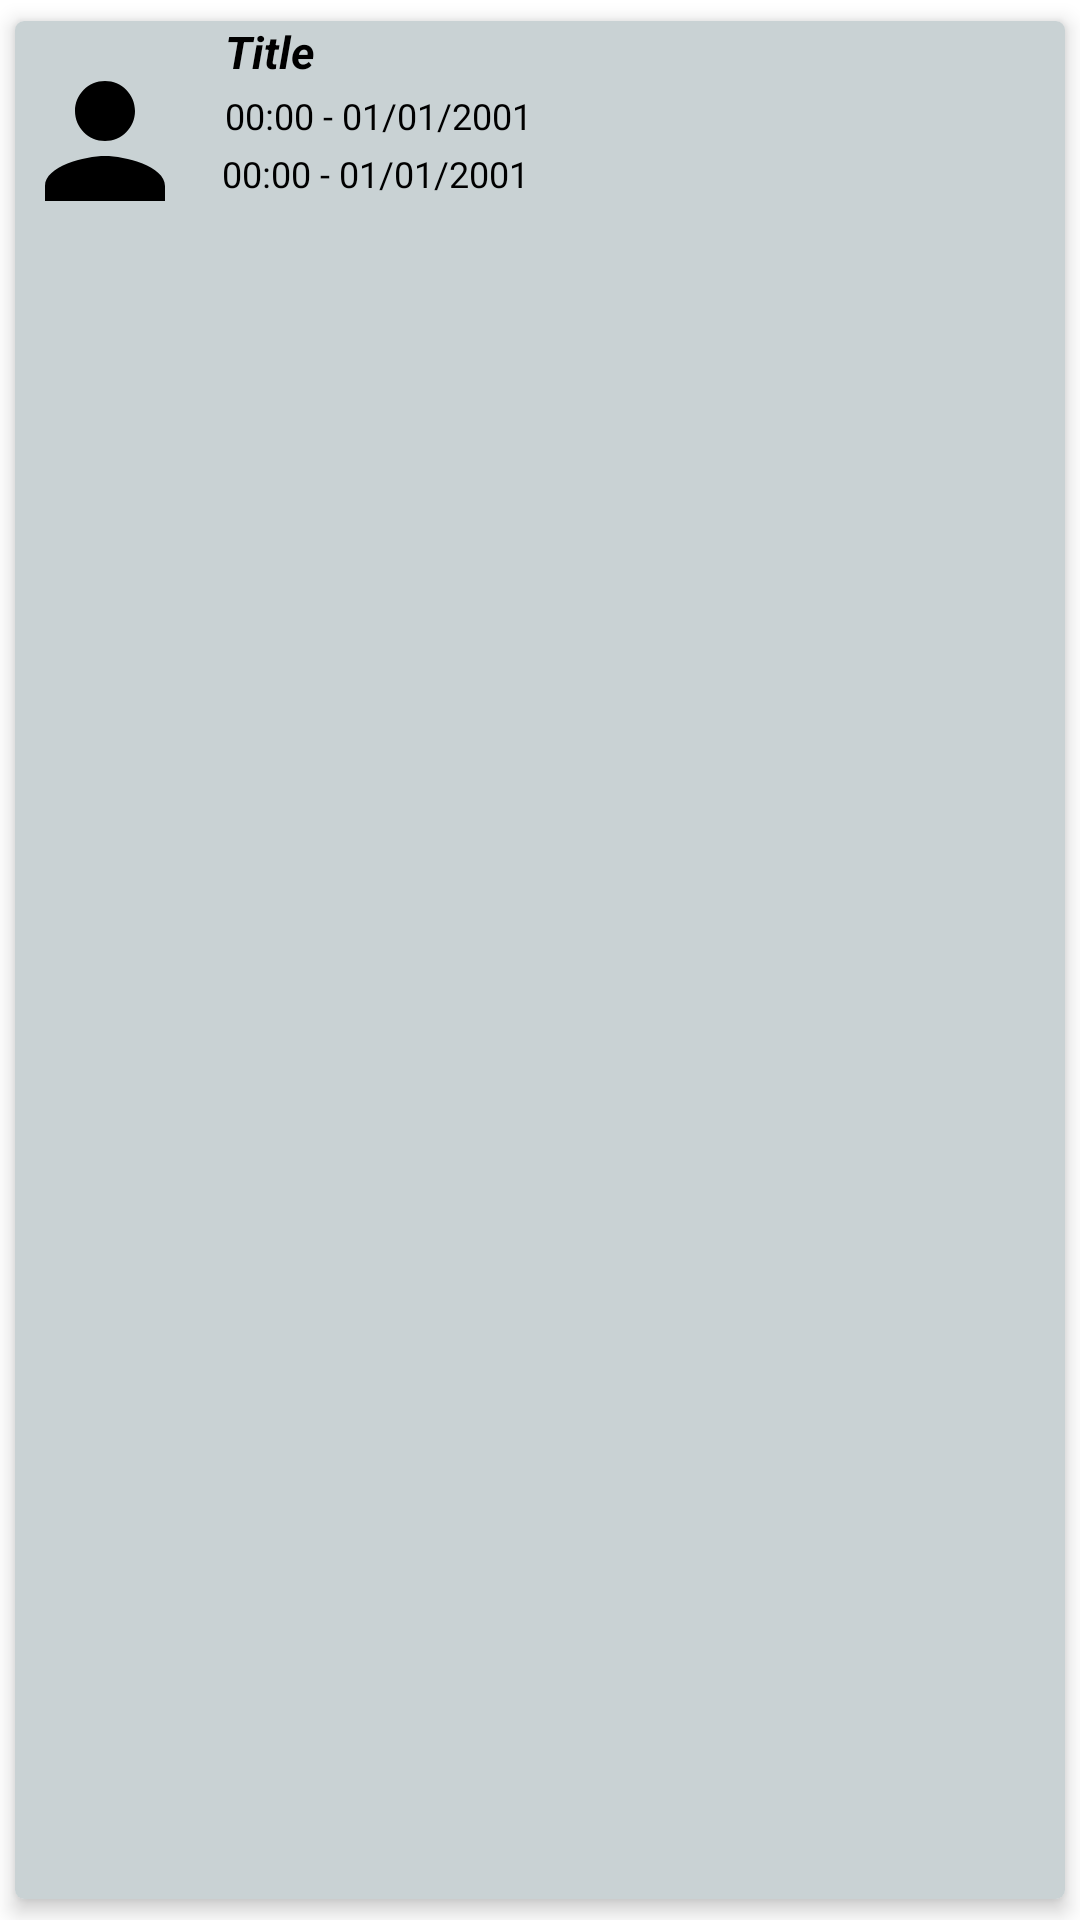

Point at icon controls on the screen. Image size 1080x1920, points as point (x, y).
person: point (105, 141)
